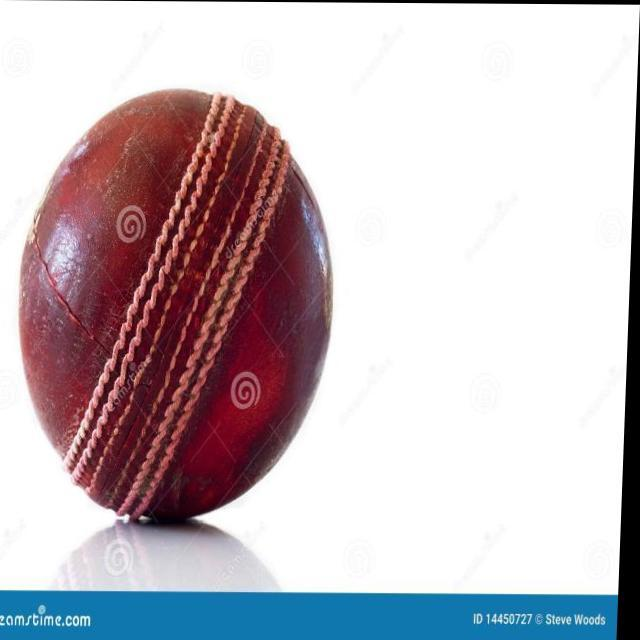cricket ball: (21, 87, 336, 521)
